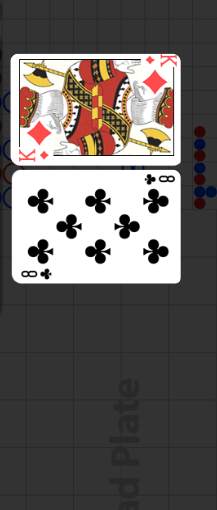8C: (20, 266, 54, 280)
KD: (144, 53, 179, 66)
